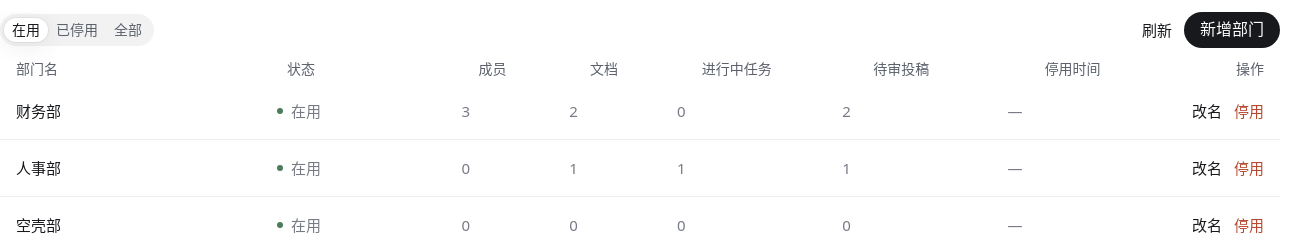
Scenario: 行操作以 allowed_actions 为唯一依据 › admin 的 active 行有改名 / 停用；inactive 行「—」无按钮
The width and height of the screenshot is (1292, 252).
Expected: the text "财务部" is shown, [16,101,61,121]
Expected: the button "改名" in the row of "财务部" is shown, [1192,101,1222,121]
Click the radio button labelled "已停用".
click(77, 30)  # box [48,20,106,39]
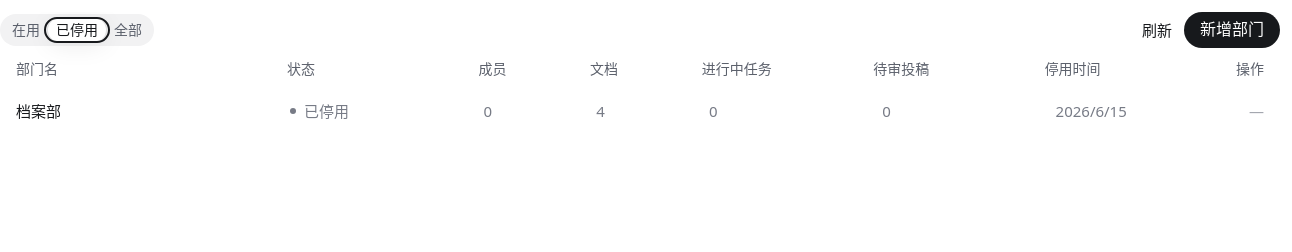
Result: the text "档案部" is shown at [16,101,61,121]
Result: the button "改名" is gone
